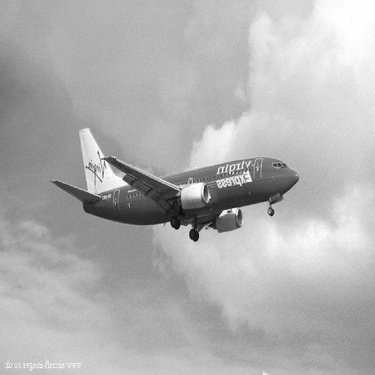airplane: (36, 97, 311, 248)
